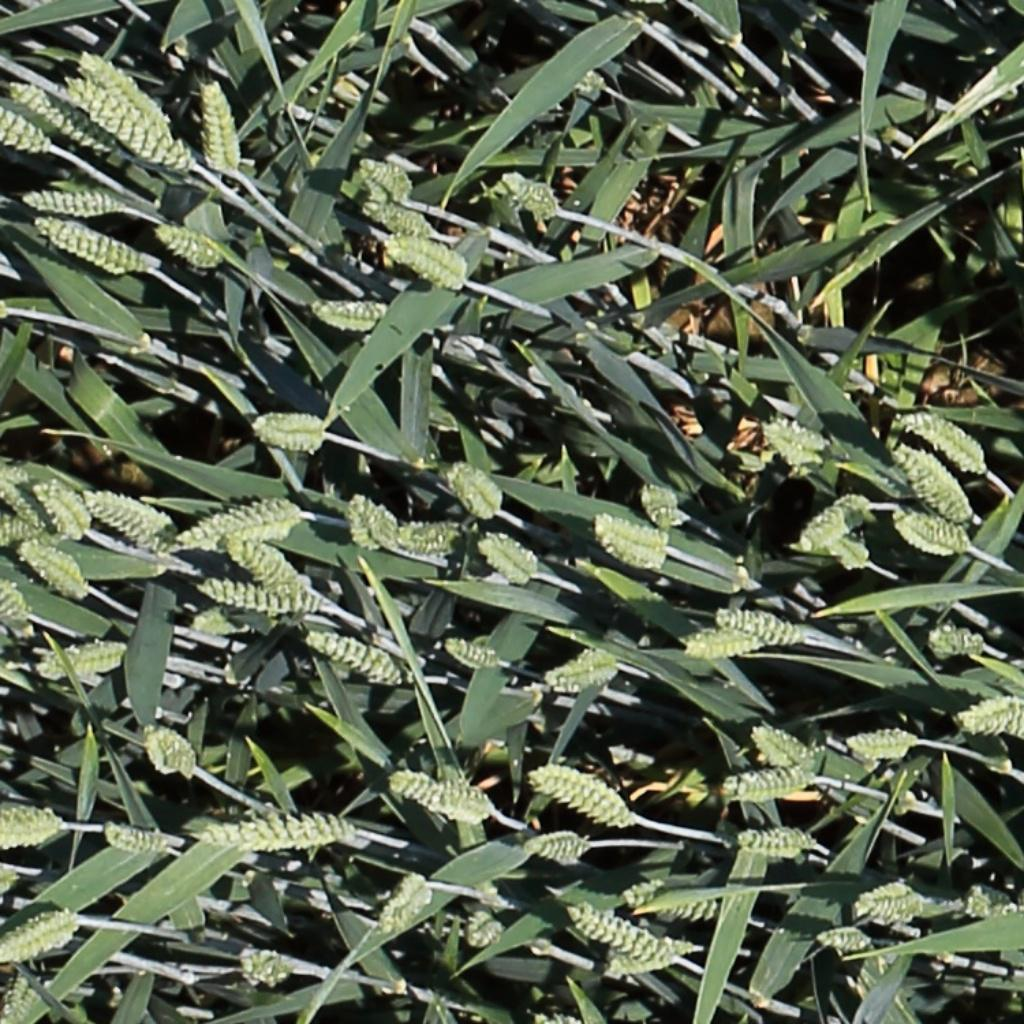0-0: (25, 77, 161, 159), (72, 76, 187, 169), (200, 808, 364, 863), (165, 500, 309, 558), (32, 215, 159, 280), (619, 875, 748, 932), (890, 438, 973, 525), (73, 51, 166, 128), (9, 79, 110, 148), (567, 906, 679, 965), (26, 628, 142, 684), (529, 767, 632, 828), (386, 769, 492, 828), (521, 642, 632, 696), (223, 536, 315, 601), (195, 580, 340, 618), (301, 632, 400, 686), (898, 413, 988, 472), (834, 880, 941, 929), (342, 492, 411, 566), (79, 492, 167, 548), (602, 937, 705, 981), (839, 722, 930, 768), (717, 766, 822, 805), (197, 76, 237, 178), (245, 407, 329, 455), (30, 473, 90, 540), (951, 693, 1024, 746), (305, 293, 397, 334), (372, 869, 428, 936), (1, 913, 76, 963), (151, 222, 226, 272), (0, 800, 76, 849), (442, 458, 501, 521), (383, 237, 464, 282), (13, 543, 86, 592), (677, 625, 756, 668), (800, 495, 866, 546), (20, 189, 127, 218), (589, 521, 666, 561), (926, 613, 990, 661), (715, 610, 804, 644), (181, 610, 270, 643), (0, 473, 47, 535), (518, 829, 598, 865), (748, 727, 813, 771), (894, 514, 963, 555), (140, 726, 193, 779), (361, 196, 431, 236), (475, 536, 533, 584), (491, 172, 555, 214), (461, 904, 509, 960), (353, 155, 409, 202), (956, 881, 1020, 922), (592, 516, 667, 550), (0, 101, 49, 152), (737, 825, 817, 853), (99, 826, 169, 856), (763, 420, 826, 450), (813, 920, 875, 950), (442, 640, 501, 670), (636, 486, 679, 527), (2, 966, 32, 1024), (236, 953, 289, 985), (0, 576, 34, 623), (1, 521, 54, 546)
